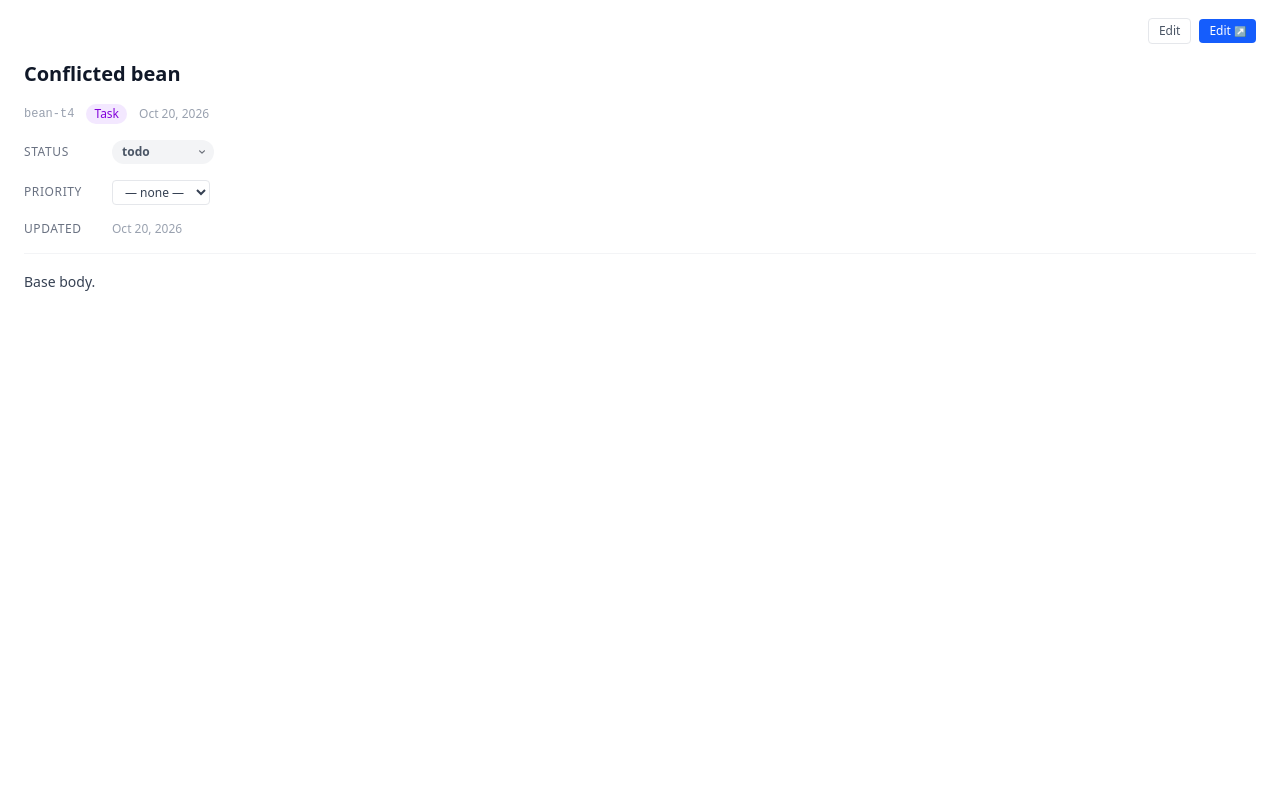
Test: T4 body conflict (P.-2jcn) › control: a successful body save leaves edit mode
Click the button "Edit". click: (1170, 31)
box: [1148,18,1191,44]
(page scrolled)
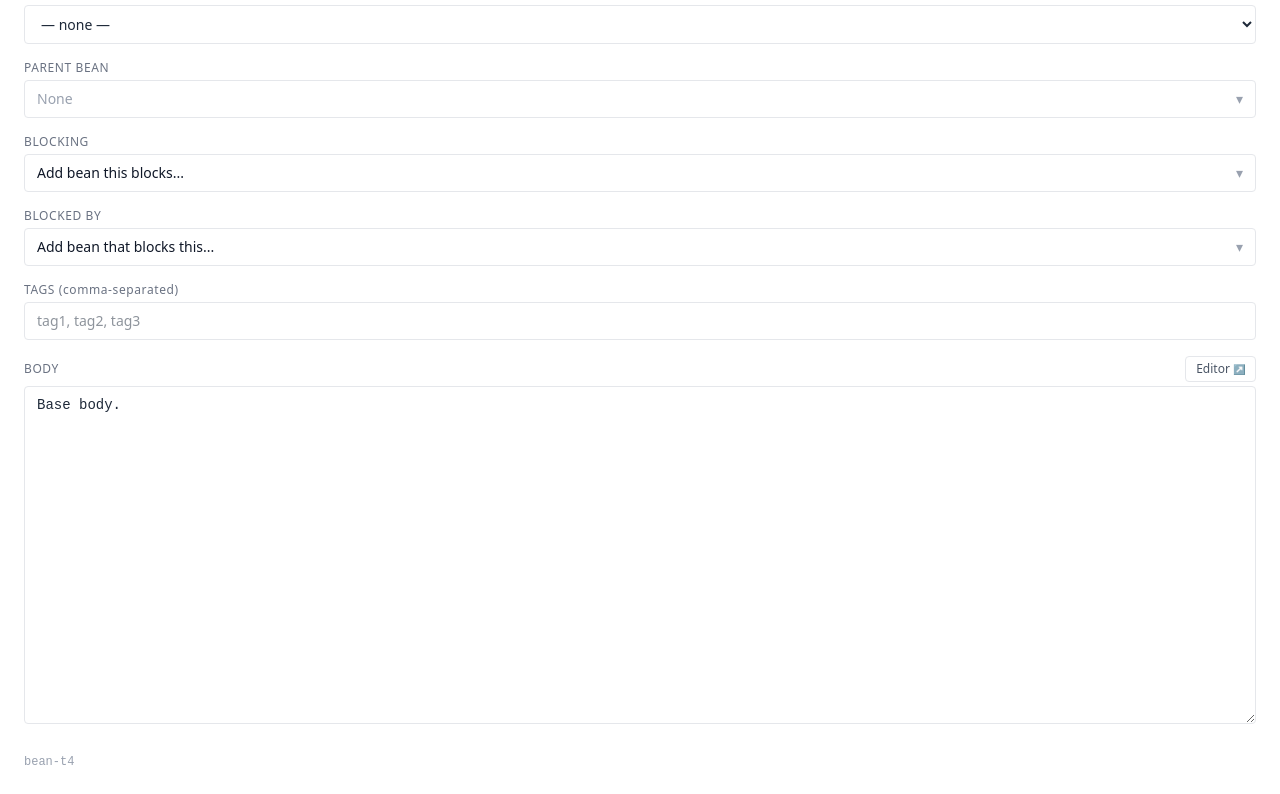
Replace the text in the text box with placeholder "Markdown body… type [ [ to link a bean" with "Saved fine.". click: (640, 555)
box: [24,386,1256,724]
(page scrolled)
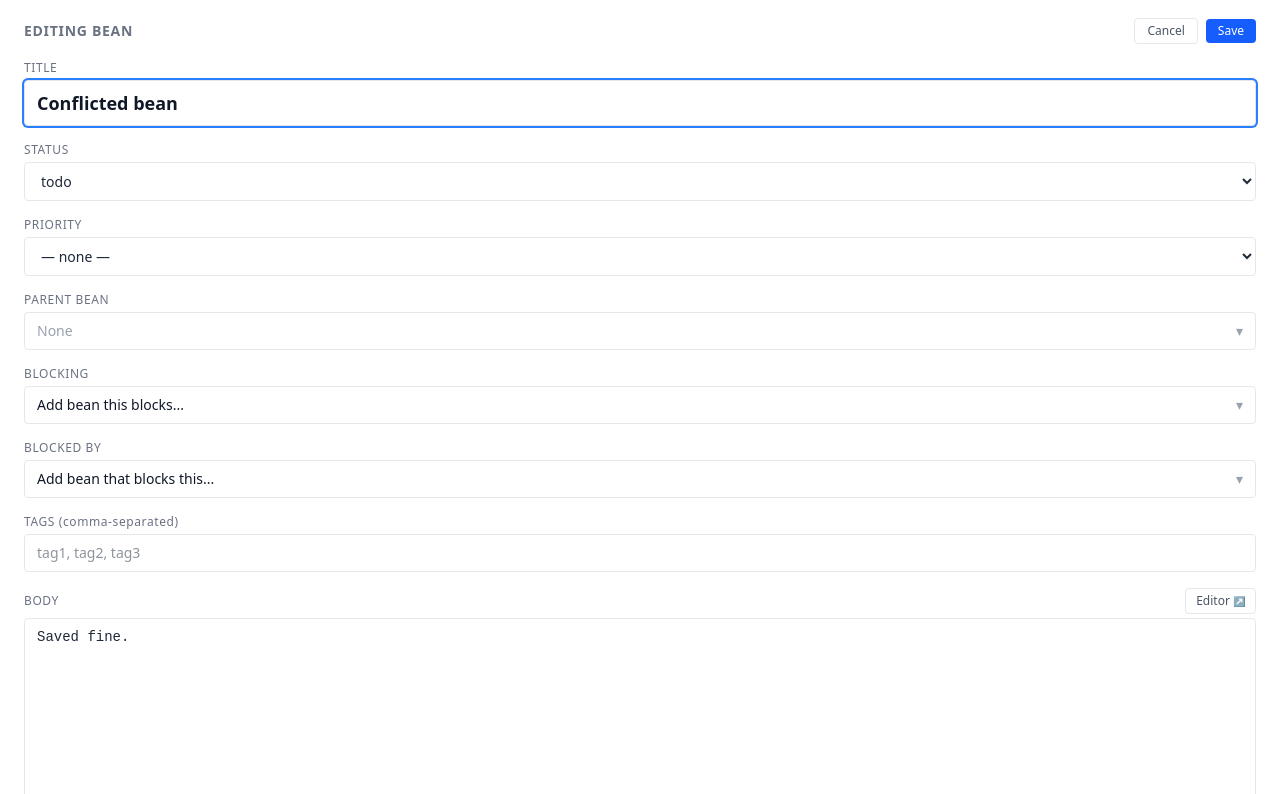
Click the button "Save". click: (1231, 31)
box: [1206,19,1256,43]
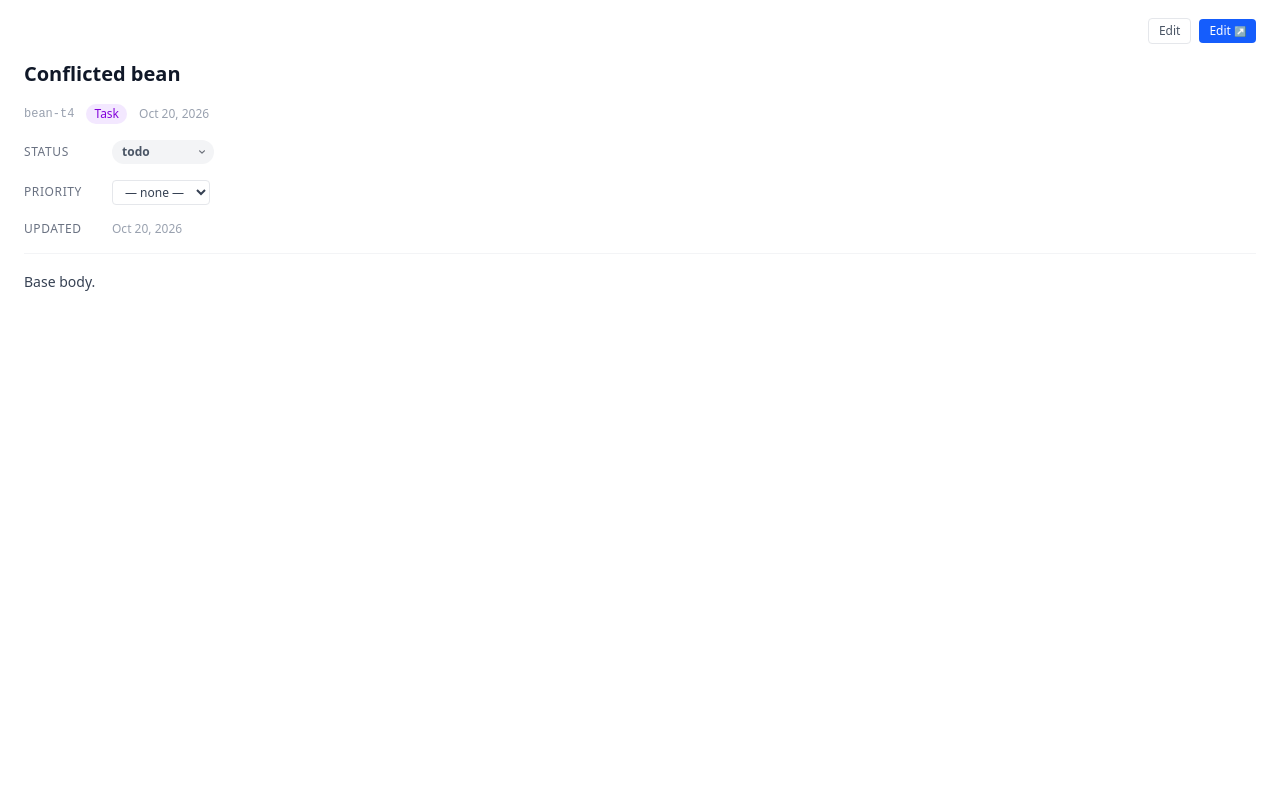
Check: the button "Save" is gone
